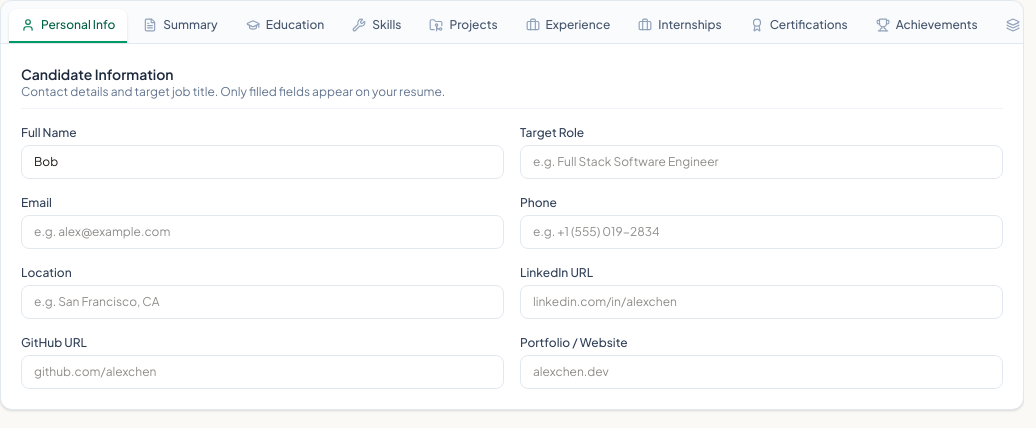
Test: Resume Builder - ResumeFormEditor Component › preserves spaces and commas while typing in comma-separated skills input
Later steps or results of the test are not shown.
# Switch to Skills tab
Click the button "Skills" at (377, 26), box [340,9,413,43]
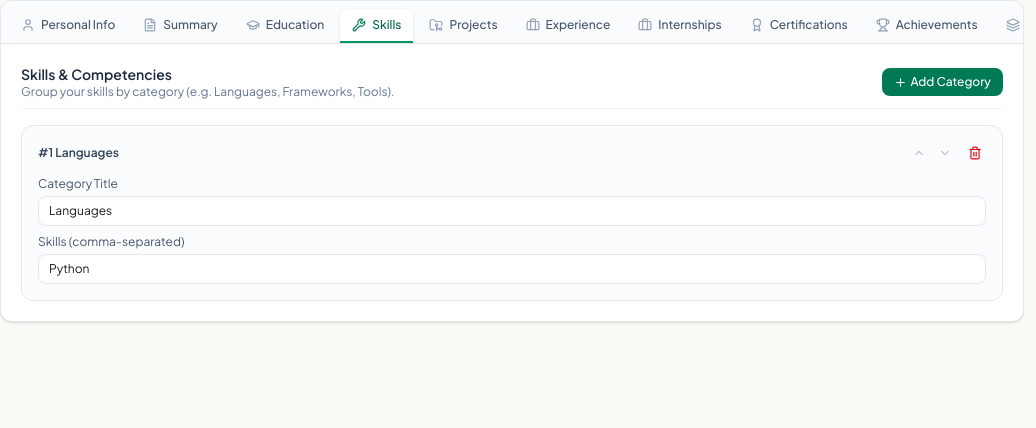
expect the field with placeholder "e.g. Python, TypeScript, React, Docker, PostgreSQL" below "Skills (comma-separated)" holds "Python": met, box [38,254,986,284]
